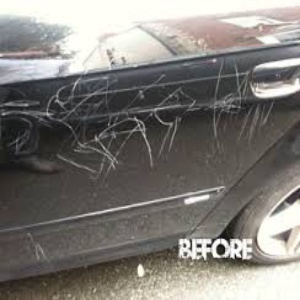door_scratch: (6, 82, 264, 180)
